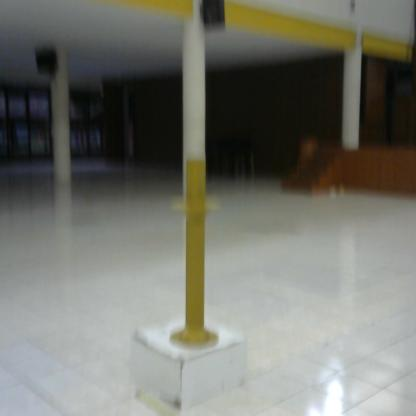pole: (167, 158, 228, 359)
